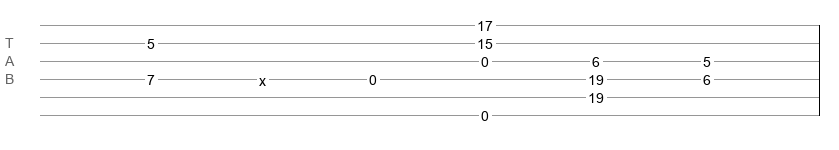0: (369, 72, 377, 82), (481, 54, 489, 64), (481, 108, 489, 118)
15: (477, 36, 493, 46)
17: (477, 18, 493, 28)
19: (588, 90, 604, 100), (588, 72, 604, 82)
5: (147, 36, 155, 46), (703, 54, 711, 64)
6: (592, 54, 600, 64), (703, 72, 711, 82)
7: (147, 72, 155, 82)
x: (259, 73, 266, 81)
